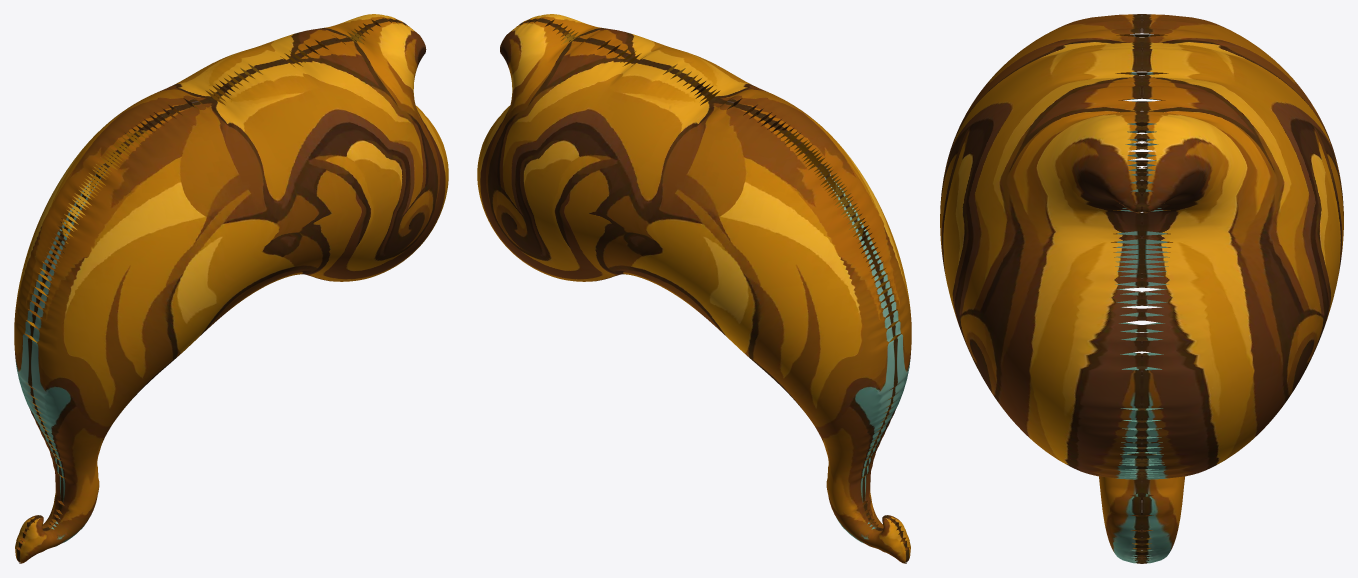
Rendered from root_scroll.glb.
3 renders of one model, left to right at view 1: azimuth 30°, elevation 25°; view 2: azimuth 150°, elevation 25°; view 3: azimuth 270°, elevation 25°, orthographic. The views are drawn at different scales.
Parts seen in each view (by area): view 1: root_scroll; view 2: root_scroll; view 3: root_scroll.
Boxes of the visible parts, x1,y1,x2,y2 form: root_scroll: (14,14,448,563); root_scroll: (477,14,911,563); root_scroll: (940,14,1343,563).
Bounding box in the file's own units: 0.9884 × 1.04 × 0.5287.
1 material, 1 textured.
